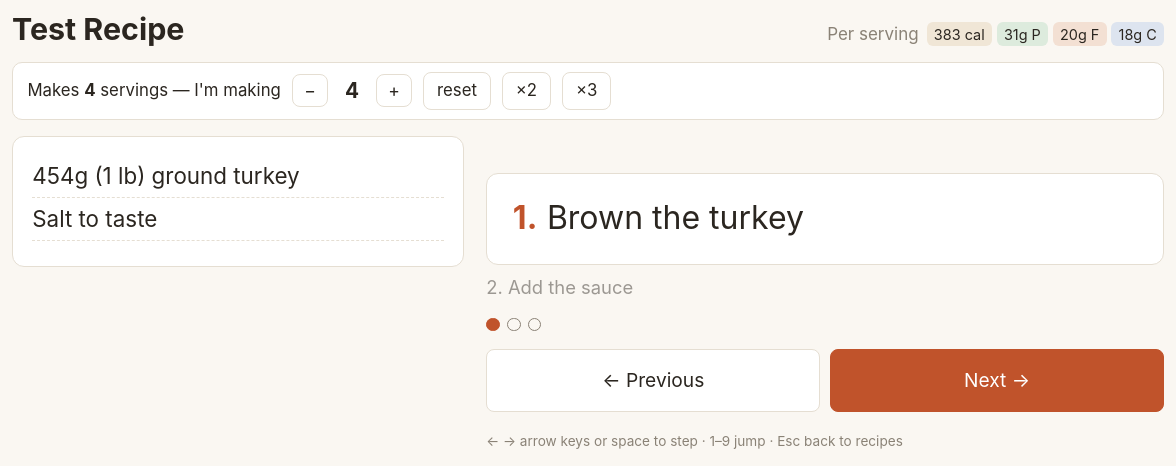
Scenario: CookPage › batch size scales parsed ingredients, leaves unparsed verbatim
The image size is (1176, 466).
Expected: the list item "454g (1 lb) ground turkey" is shown, [32,156,444,198]
Recipe makes 4 → make 8 (the ×2 button).
Click the button "×2" at (526, 91), box [502,72,551,110]
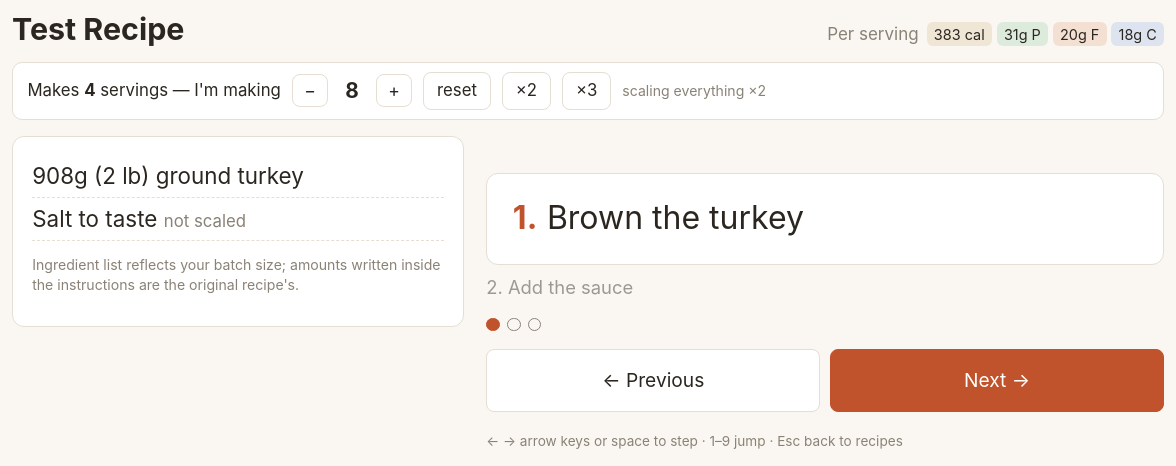
Expected: the list item "Salt to taste" is shown, [32,205,157,232]
Now the list item "908g (2 lb) ground turkey" is shown, box [32,156,444,198]
Now the text "not scaled" is shown, box [164,211,246,231]
